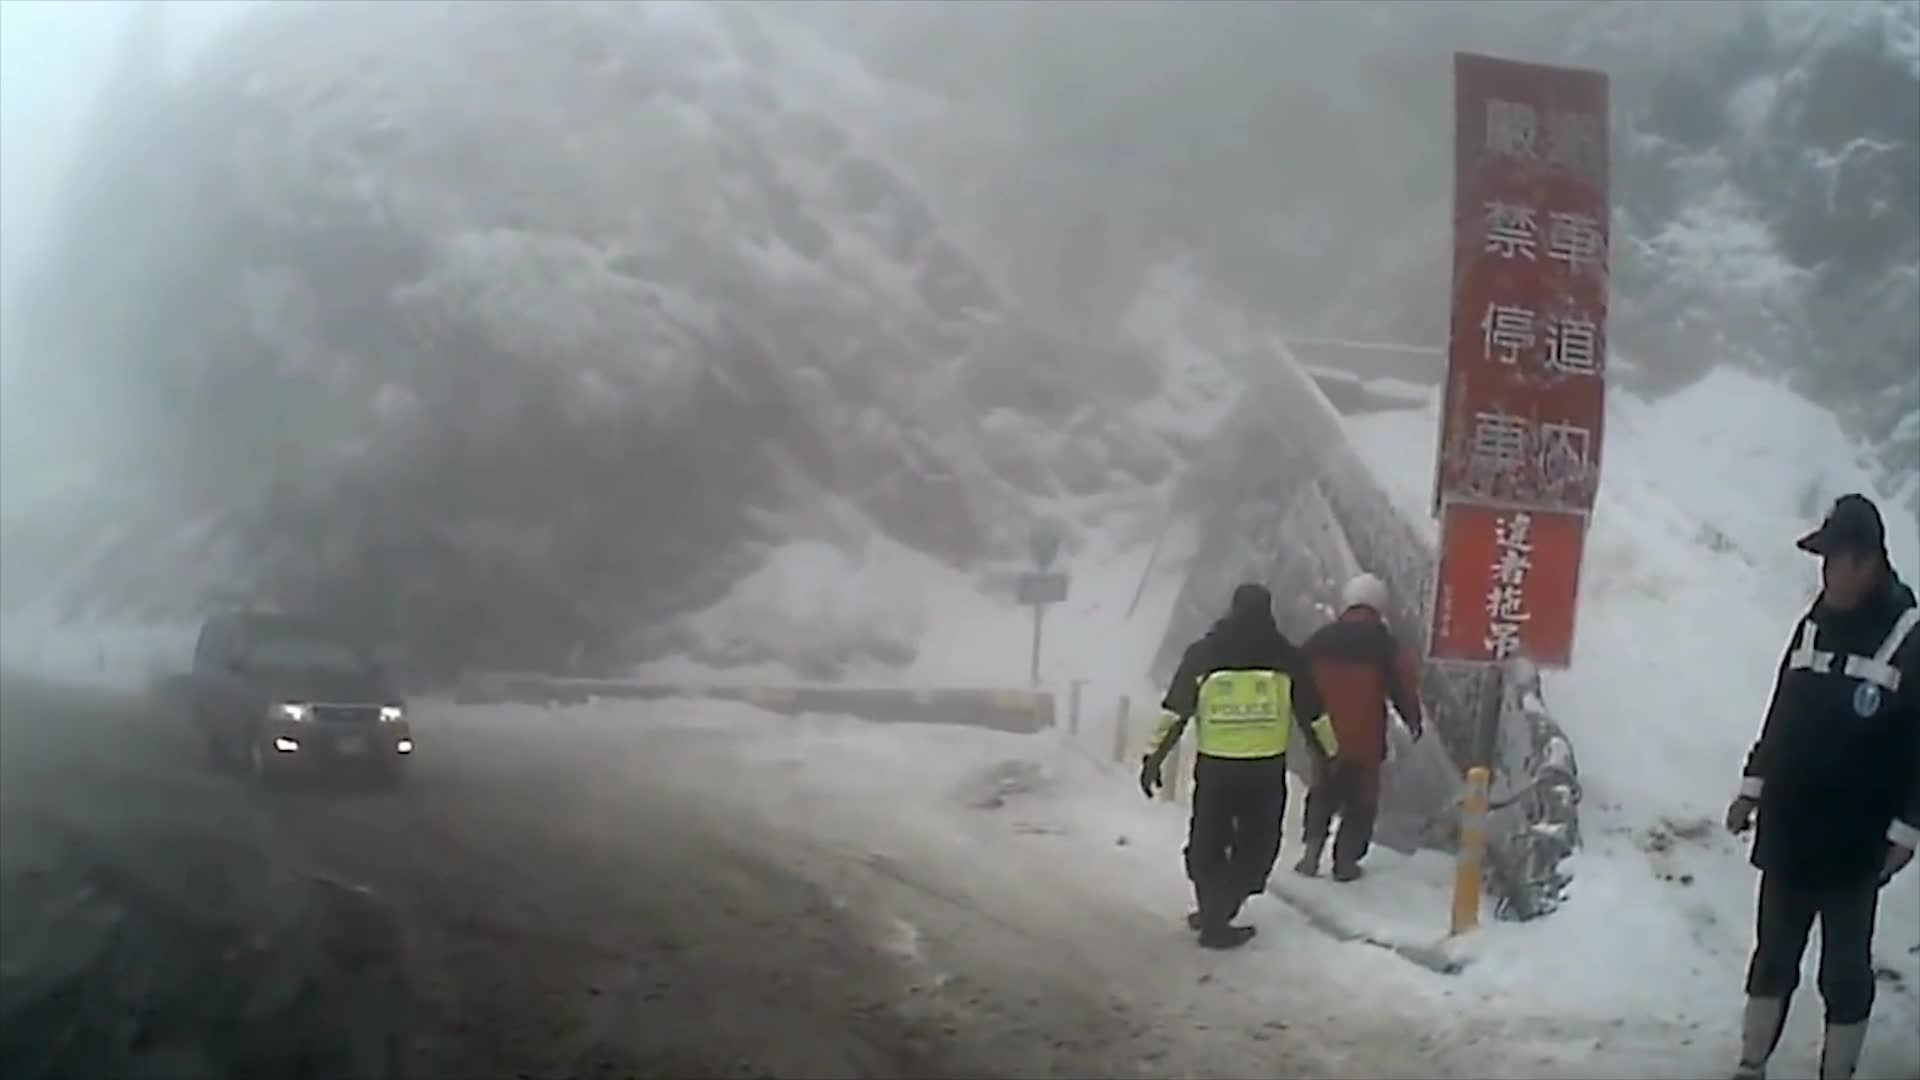pedestrian: (1726, 489, 1920, 1079), (1145, 589, 1347, 952), (1301, 578, 1426, 881)
vehicle: (187, 612, 416, 794)
